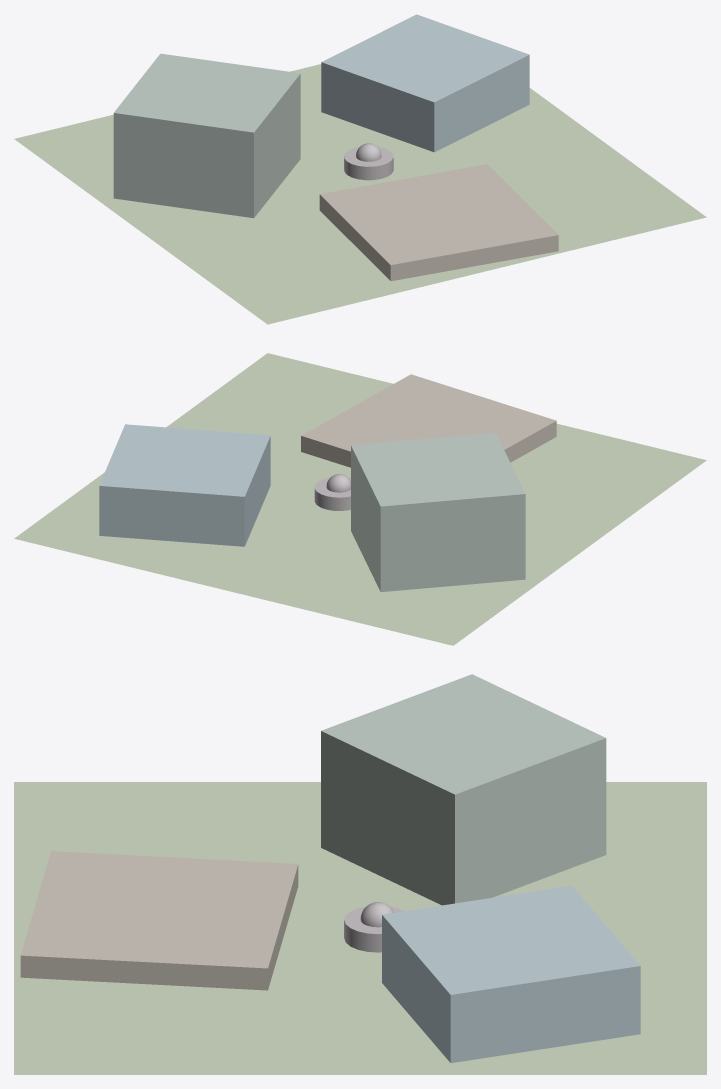
Rendered from eislato_MAP_2.fbx.
3 views of the same model, one above another, from view 1: azimuth 30°, elevation 25°; view 2: azimuth 150°, elevation 25°; view 3: azimuth 270°, elevation 25° (orthographic). The views are drawn at different scales.
Visible parts, largest first — view 1: floor, main, built2, built1, center; view 2: floor, main, built2, built1, center; view 3: floor, main, built2, built1, center.
Part boxes in pixels (left/top/right/bottom): floor: left=14, top=64, right=706, bottom=324; main: left=113, top=53, right=300, bottom=218; built2: left=321, top=14, right=529, bottom=152; built1: left=319, top=164, right=558, bottom=281; center: left=344, top=143, right=393, bottom=180; floor: left=14, top=353, right=706, bottom=645; main: left=351, top=432, right=525, bottom=591; built2: left=99, top=424, right=270, bottom=546; built1: left=301, top=374, right=556, bottom=467; center: left=314, top=474, right=350, bottom=510; floor: left=14, top=782, right=706, bottom=1074; main: left=321, top=674, right=606, bottom=905; built2: left=382, top=885, right=640, bottom=1062; built1: left=20, top=851, right=298, bottom=990; center: left=344, top=902, right=404, bottom=952.
Size of the model in its own units: 214 by 40.5 by 214.
